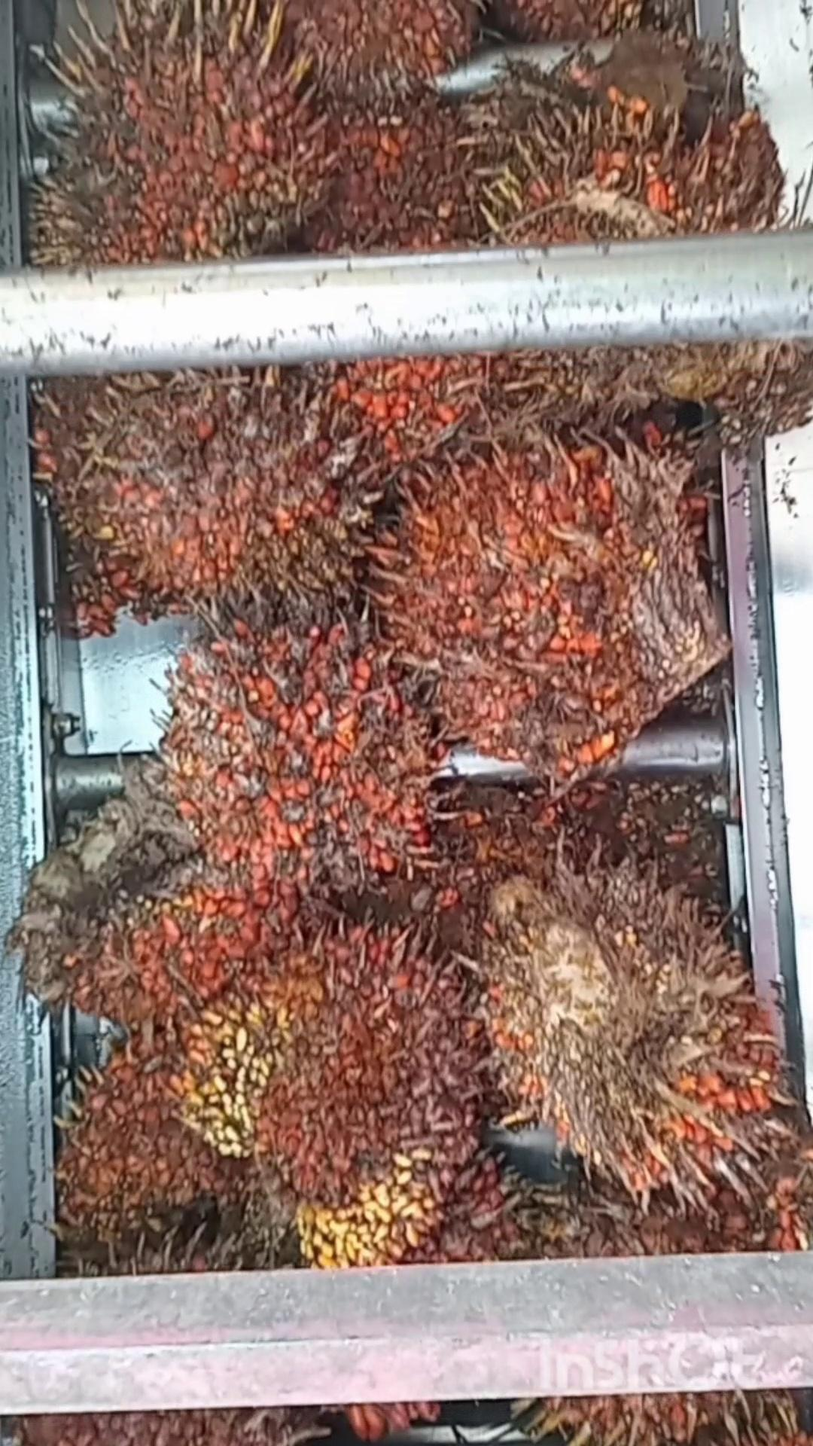Madurado: (166, 917, 506, 1267), (386, 448, 726, 768), (482, 861, 787, 1203), (0, 0, 355, 276), (152, 612, 460, 900), (51, 345, 355, 612), (12, 802, 303, 1035), (44, 1030, 276, 1279), (291, 0, 494, 110)
